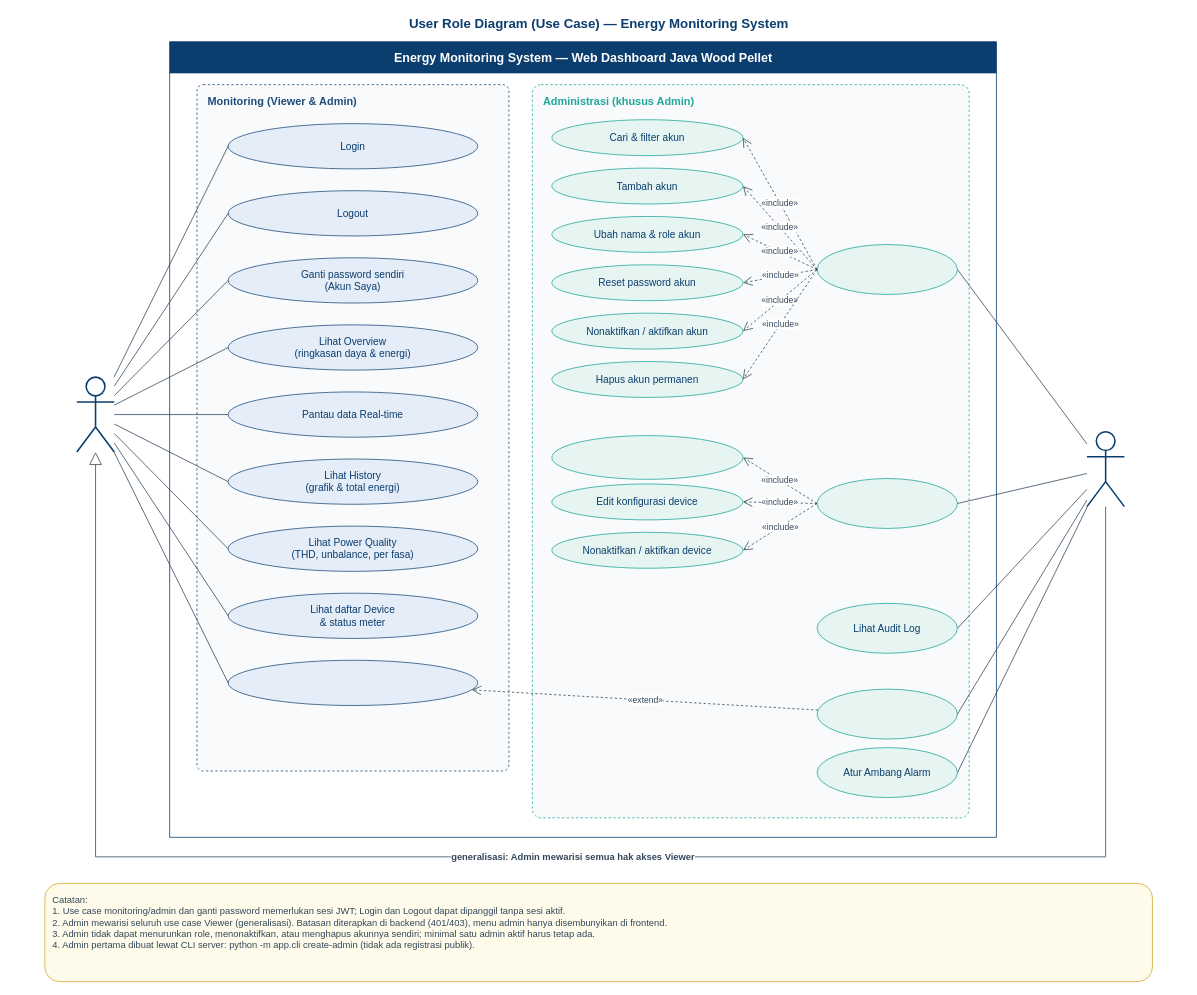
Some shapes in this 1197 by 995 pixel diagram are drawn without their labels. Here are the shapes that lost their labels. From the top down, the centre of each, then its label:
(886,269): Kelola Akun
(95,414): Viewer (melihat data)
(647,457): Tambah device (model/peran/jalur "Lainnya")
(1105,469): Admin (mengelola sistem)
(886,503): Kelola Device
(352,682): Lihat Alarm
(886,713): Acknowledge Alarm
